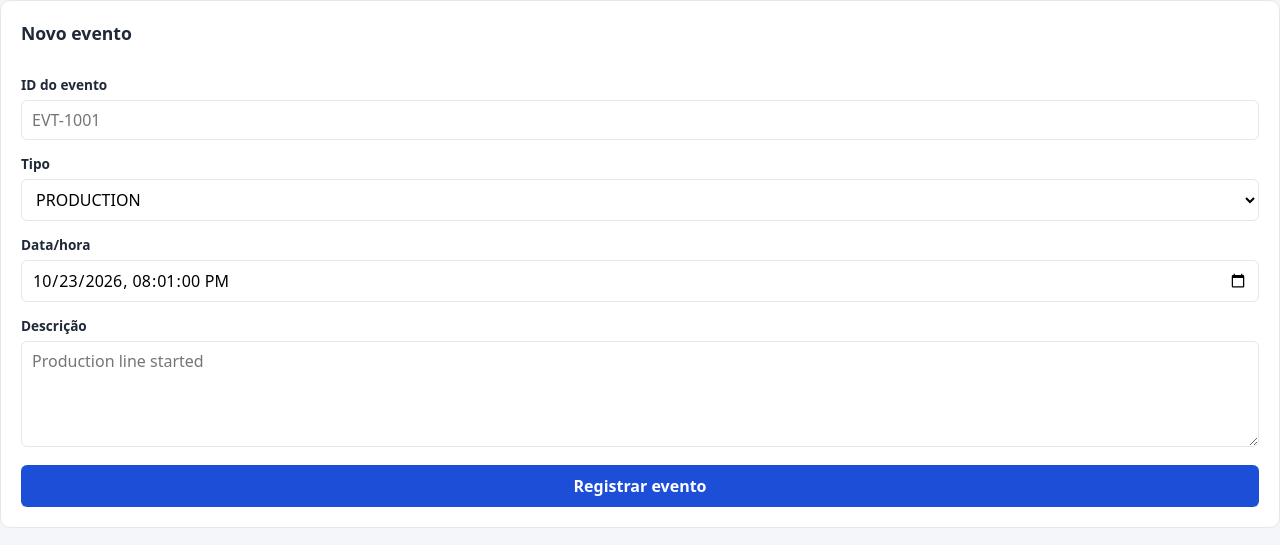
EventForm › desabilita o botão enquanto envia
Type "  EVT-1  " into the field labelled "ID do evento".
click(640, 120); type("  EVT-1  ")  # box [21,100,1259,140]
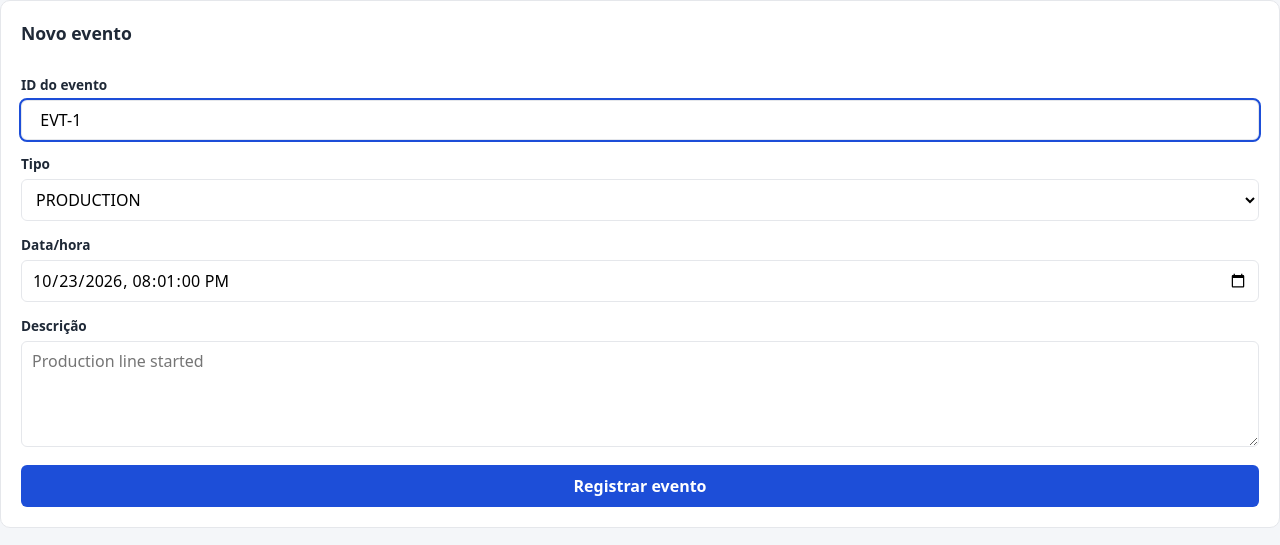
Type " Linha iniciada " into the text box labelled "Descrição".
click(640, 394); type(" Linha iniciada ")  # box [21,341,1259,447]
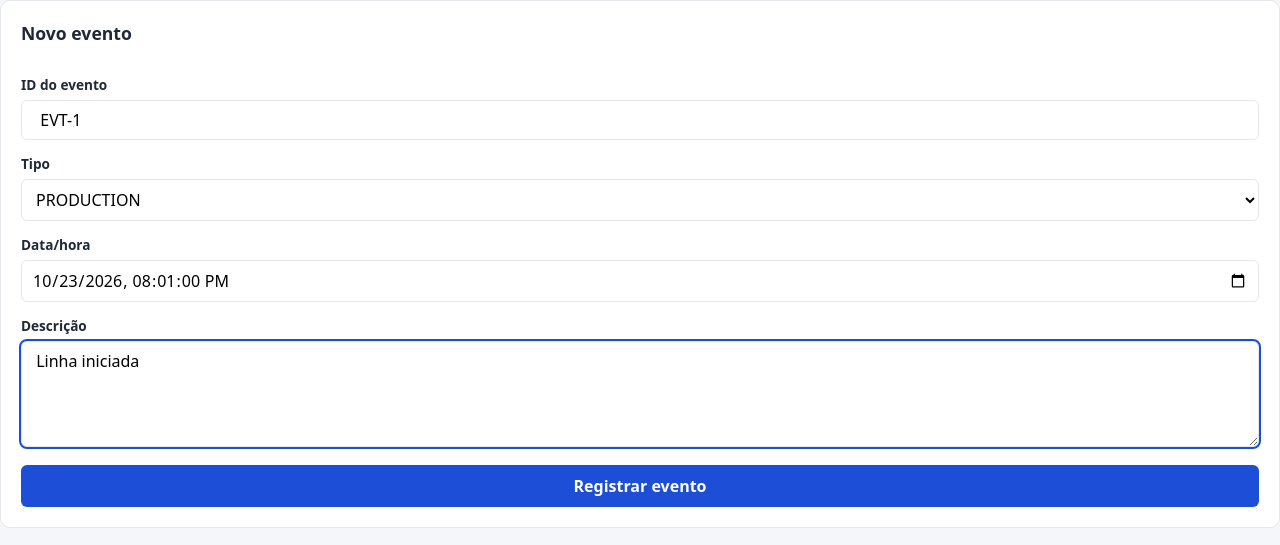
Click the button "Registrar evento".
click(640, 486)  # box [21,465,1259,507]
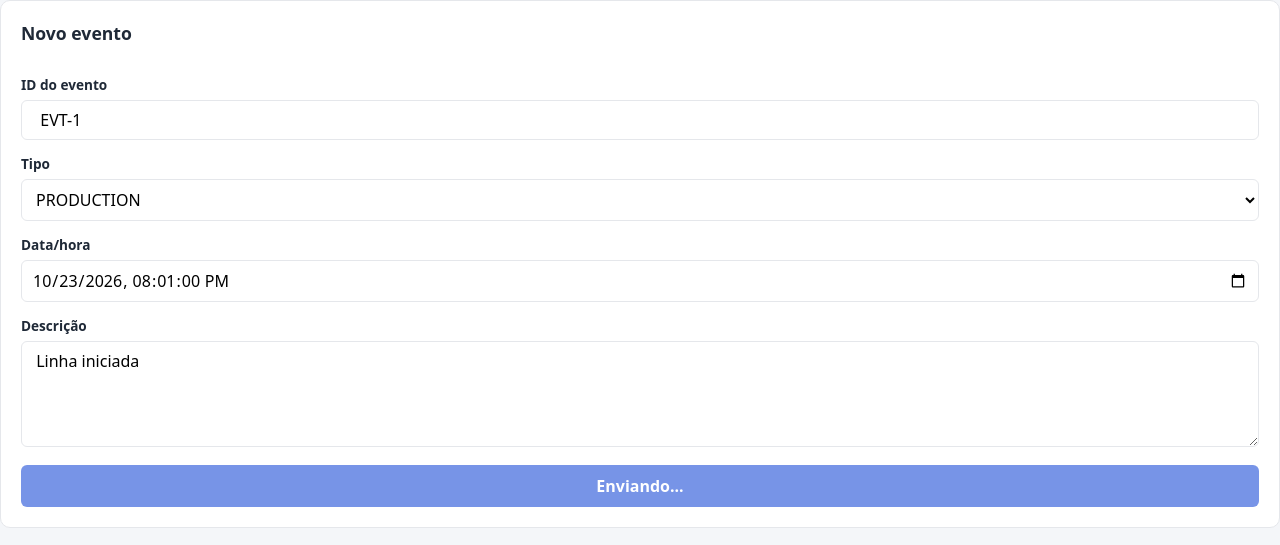
Now the button "Enviando..." is disabled, box [21,465,1259,507]
